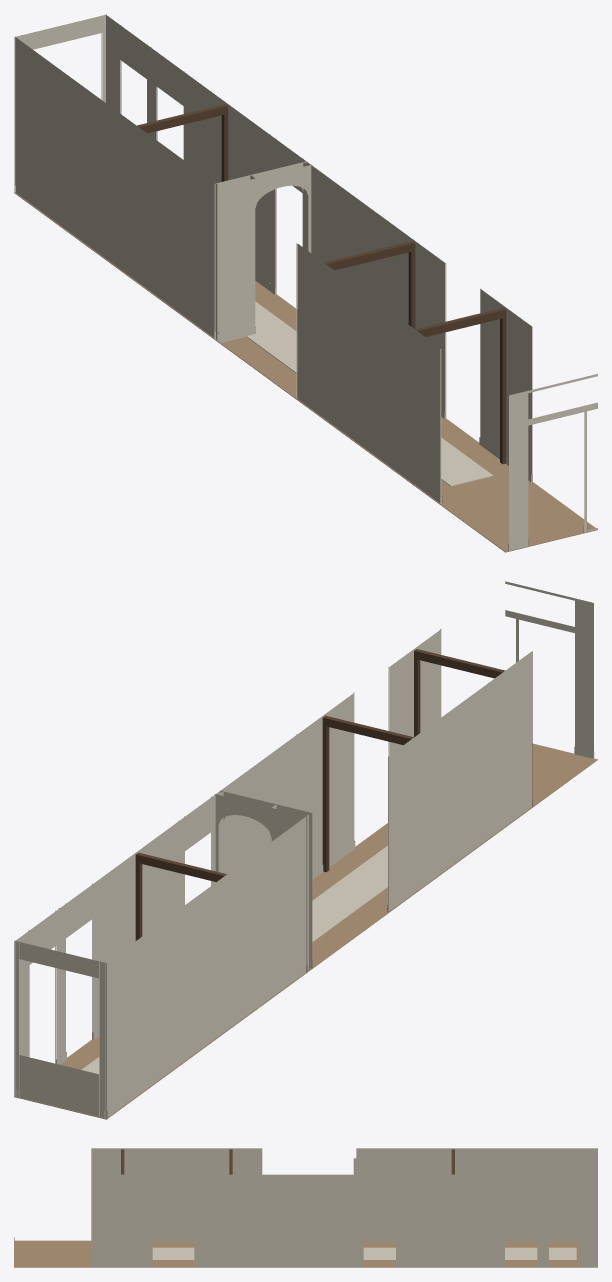
The model's file is corridor-2.glb.
3 renders of one model, top to bottom at view 1: azimuth 30°, elevation 25°; view 2: azimuth 150°, elevation 25°; view 3: azimuth 270°, elevation 25°, orthographic. The views are drawn at different scales.
Parts seen in each view (by area): view 1: DESIGN | corridor removable wall finish, DESIGN | corridor floor finish, DESIGN | Quiet hall runner, DESIGN | Measured threshold jamb.001, DESIGN | Measured threshold head.002, DESIGN | Measured threshold head, DESIGN | Measured threshold head.001; view 2: DESIGN | corridor removable wall finish, DESIGN | corridor floor finish, DESIGN | Quiet hall runner, DESIGN | Measured threshold jamb.003, DESIGN | Measured threshold head, DESIGN | Measured threshold head.001, DESIGN | Measured threshold head.002; view 3: DESIGN | corridor removable wall finish, DESIGN | corridor floor finish, DESIGN | Quiet hall runner.
Part boxes in pixels (x1,y1,x2,y2): DESIGN | corridor removable wall finish: (14,14,597,550); DESIGN | corridor floor finish: (14,192,597,552); DESIGN | Quiet hall runner: (246,301,493,486); DESIGN | Measured threshold jamb.001: (500,307,506,464); DESIGN | Measured threshold head.002: (137,104,227,133); DESIGN | Measured threshold head: (415,308,505,336); DESIGN | Measured threshold head.001: (324,241,414,270); DESIGN | corridor removable wall finish: (14,581,594,1118); DESIGN | corridor floor finish: (14,743,597,1119); DESIGN | Quiet hall runner: (81,845,387,1074); DESIGN | Measured threshold jamb.003: (322,715,329,872); DESIGN | Measured threshold head: (414,649,505,678); DESIGN | Measured threshold head.001: (323,716,413,745); DESIGN | Measured threshold head.002: (136,853,225,881); DESIGN | corridor removable wall finish: (14,1148,597,1267); DESIGN | corridor floor finish: (14,1240,597,1267); DESIGN | Quiet hall runner: (152,1247,576,1260).
Size of the model in its own units: 1.7 by 2.74 by 15.63.
